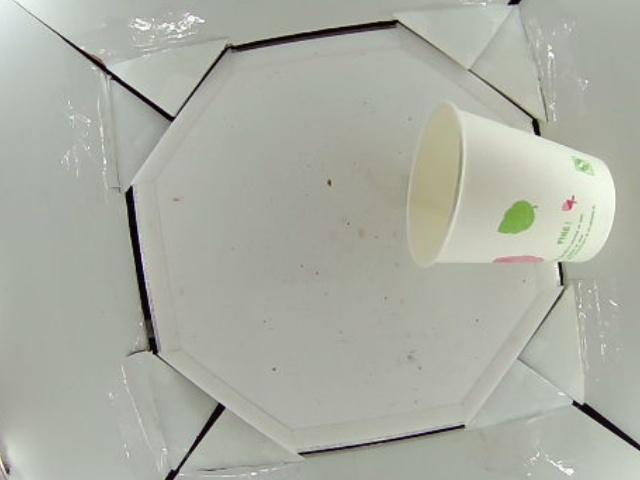Cup: (407, 101, 617, 268)
